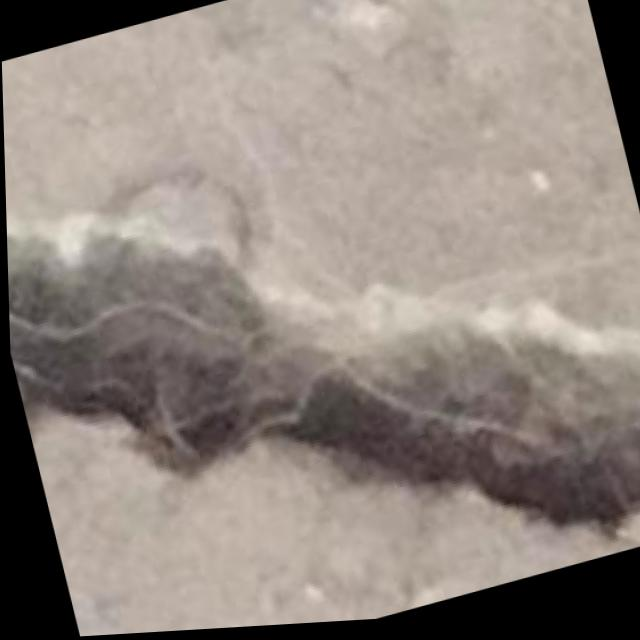Crack: (2, 45, 640, 640)
